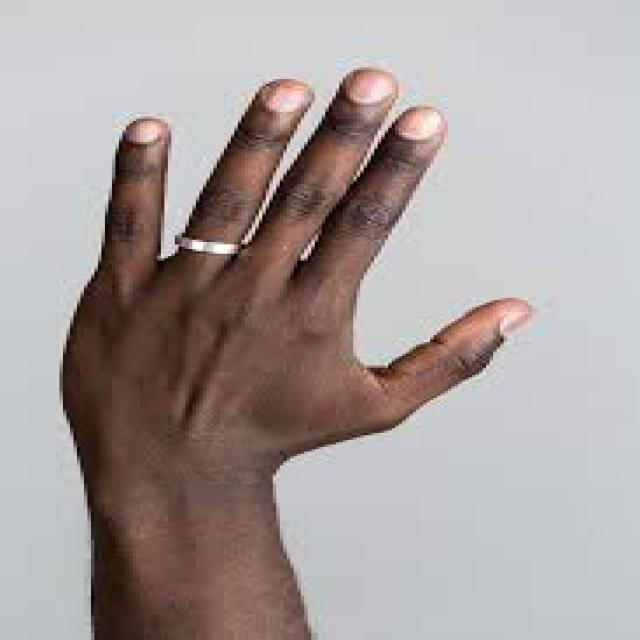hand: (29, 70, 542, 476)
